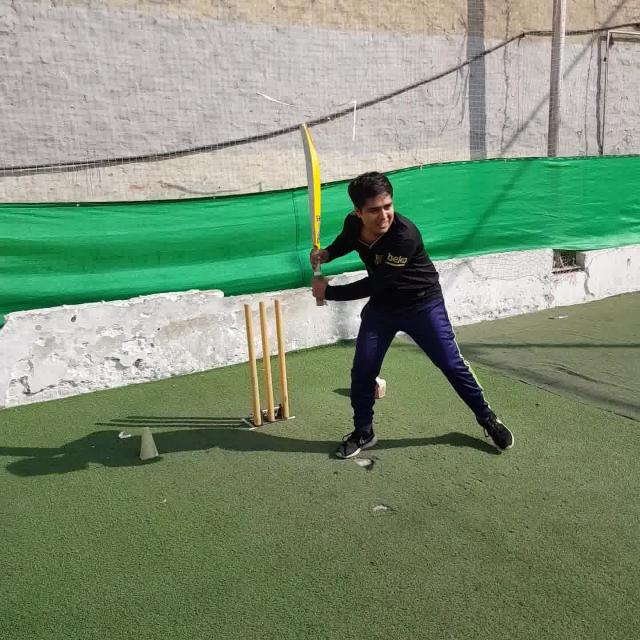bat: (300, 122, 326, 306)
